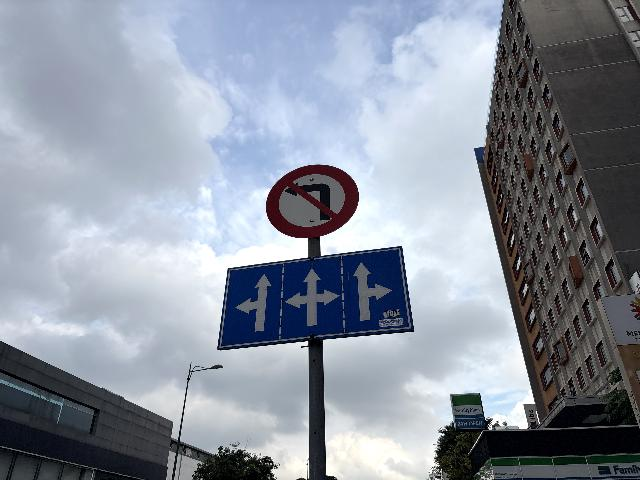cam-re-trai: (267, 163, 358, 238)
